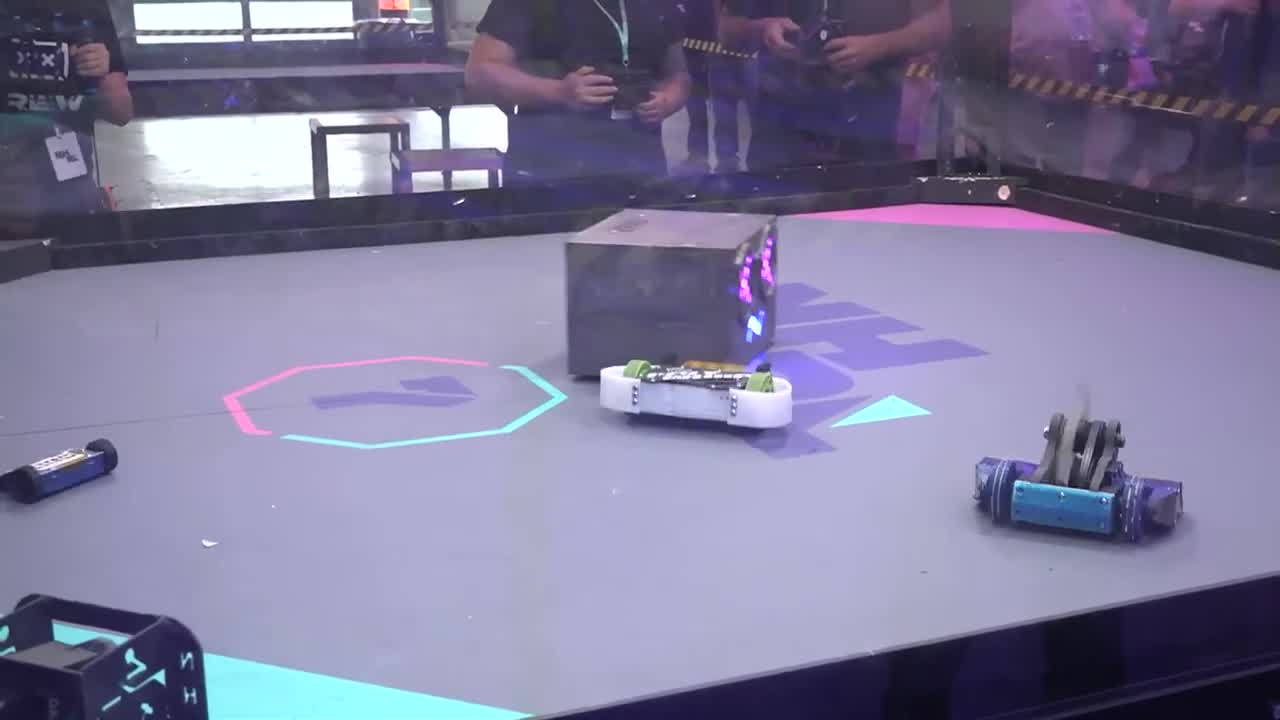combatbot: (971, 383, 1185, 542), (598, 352, 790, 429)
housebot: (567, 207, 780, 382)
minibot: (0, 439, 121, 509)
